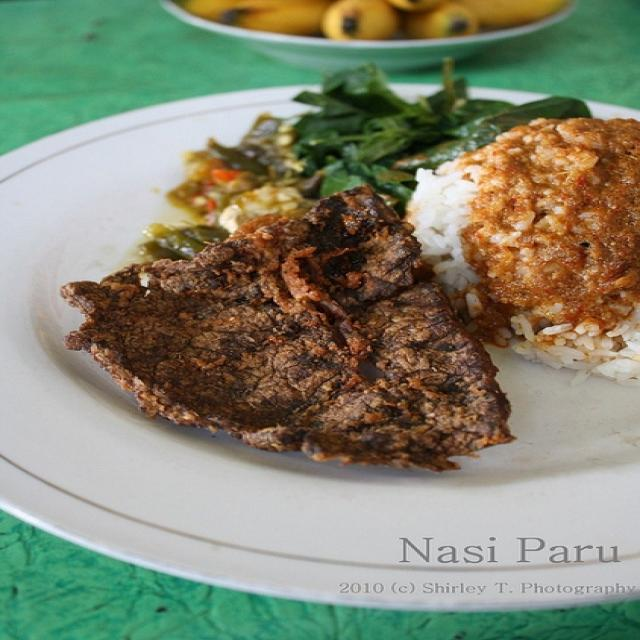米饭主食: (16, 29, 630, 586)
